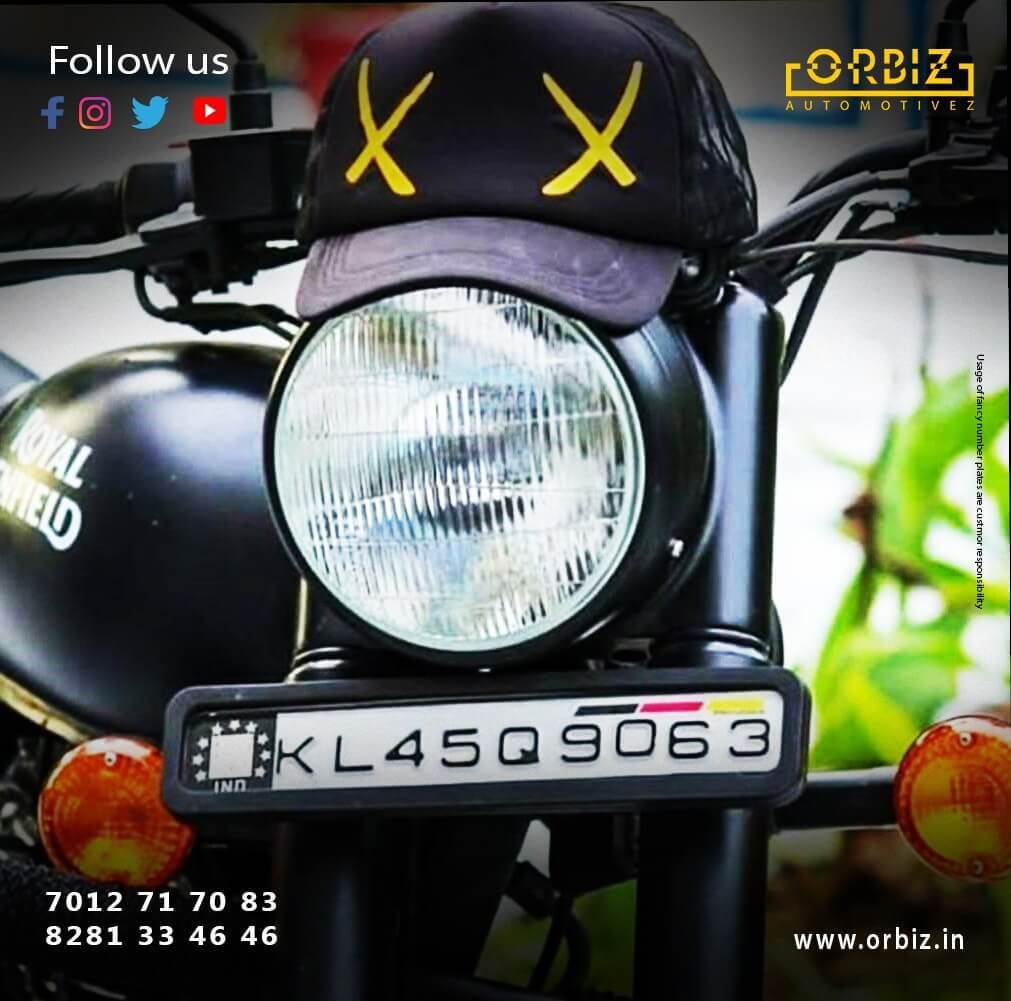numberplate: (165, 686, 796, 793)
